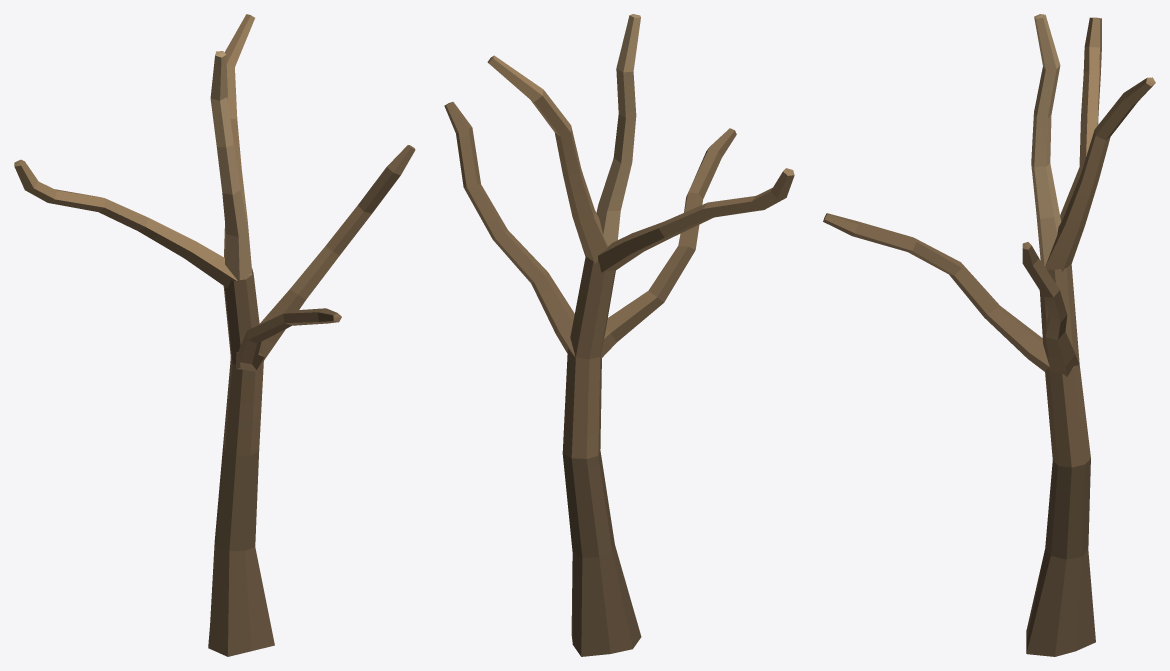
Rendered from naked_tree_7.fbx.
3 renders of one model, left to right at view 1: azimuth 30°, elevation 25°; view 2: azimuth 150°, elevation 25°; view 3: azimuth 270°, elevation 25°, orthographic. The views are drawn at different scales.
Parts seen in each view (by area): view 1: naked_tree_7; view 2: naked_tree_7; view 3: naked_tree_7.
Boxes of the visible parts, bbox=[...] form: naked_tree_7: bbox=[14, 14, 415, 656]; naked_tree_7: bbox=[444, 14, 794, 656]; naked_tree_7: bbox=[823, 14, 1155, 656].
Bounding box in the file's own units: 436 × 680 × 334.
